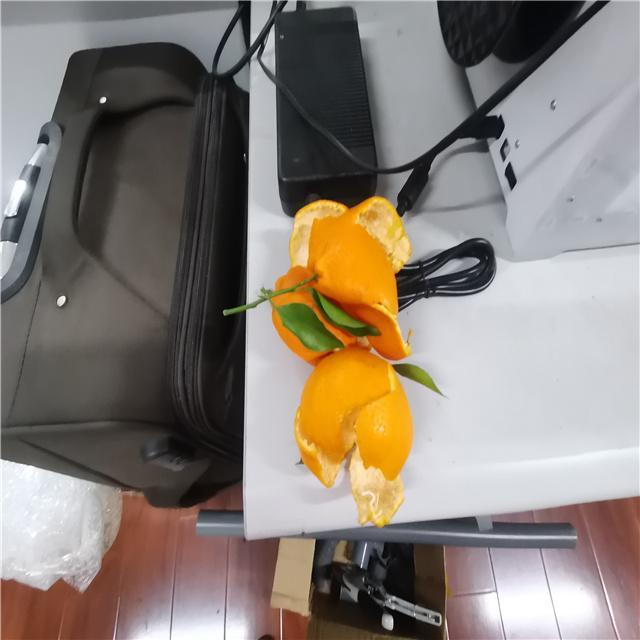orange-peel: (225, 186, 451, 532)
